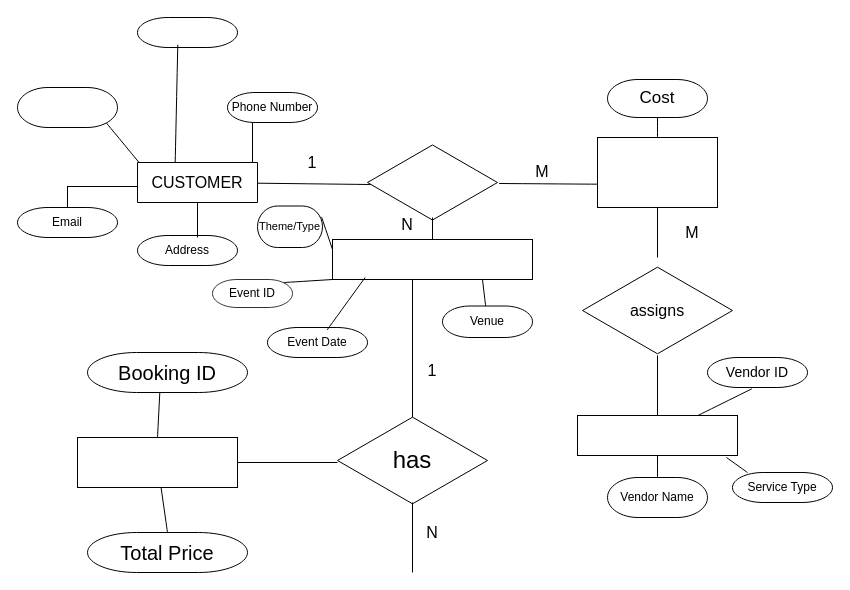
This 850x590 diagram has some shape labels left out. Here are the shapes that lost their labels. From the top down, the box of each, then its label:
(136, 16, 238, 48): Full Name
(16, 86, 118, 128): Customer ID
(366, 142, 498, 222): books
(596, 136, 718, 208): VENDOR ASSIGNMENT
(332, 238, 532, 280): WEDDING EVENT
(576, 414, 738, 456): VENDOR
(76, 436, 238, 488): BOOKING
